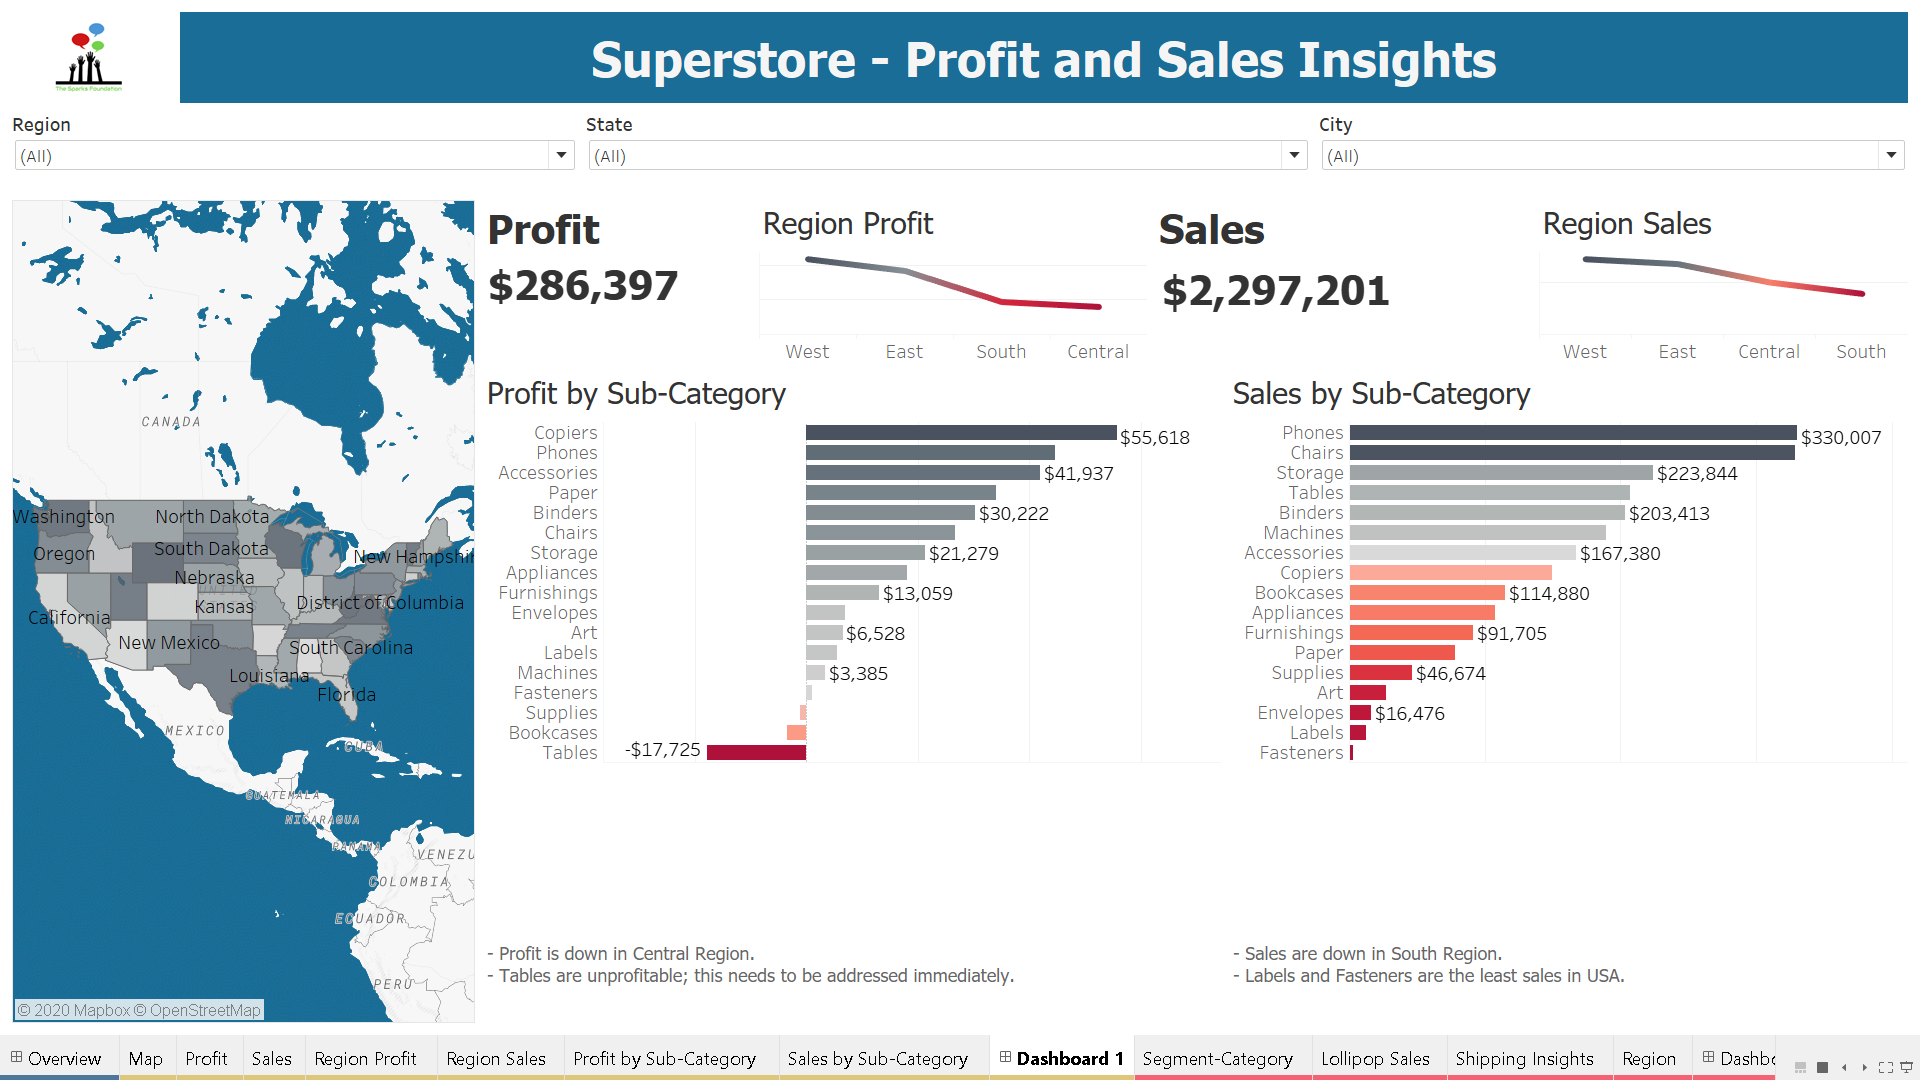

The page's visual inventory and layout, read from the dashboard file:
{"tool":"tableau","page":{"name":"Dashboard 1","canvas":[1000,1000],"units":"permille","ordinal":0},"visuals":[{"type":"worksheet","box":[0,0,1000,1000]},{"type":"worksheet","param":"horz","box":[5,9.8,990,980.4]},{"type":"worksheet","param":"horz","box":[5,9.8,990,980.4]},{"type":"worksheet","box":[5,9.8,990,980.4]},{"type":"worksheet","param":"Image/images.png","box":[5,9.8,87.2,95.2]},{"type":"worksheet","box":[92.2,9.8,902.8,95.2]},{"type":"worksheet","param":"horz","box":[5,105,990,885.2]},{"type":"worksheet","param":"vert","box":[5,105,990,885.2]},{"type":"worksheet","param":"horz","box":[5,105,990,885.2]},{"type":"worksheet","param":"horz","box":[5,105,990,885.2]},{"type":"worksheet","param":"horz","box":[5,105,990,885.2]},{"type":"worksheet","box":[5,105,990,885.2]},{"type":"worksheet","title":"Map","mark":"Multipolygon","param":"[federated.1cpo31o1rp0b5b1baj65f1iec43t].[none:Region:nk]","box":[5,105,298.5,85.3]},{"type":"worksheet","title":"Map","mark":"Multipolygon","param":"[federated.1cpo31o1rp0b5b1baj65f1iec43t].[none:State:nk]","box":[303.5,105,381,85.3]},{"type":"worksheet","title":"Map","mark":"Multipolygon","param":"[federated.1cpo31o1rp0b5b1baj65f1iec43t].[none:City:nk]","box":[684.5,105,310.6,85.3]},{"type":"worksheet","param":"horz","box":[5,190.3,990,799.9]},{"type":"worksheet","box":[5,190.3,990,799.9]},{"type":"worksheet","title":"Map","mark":"Multipolygon","box":[5,190.3,245,799.9]},{"type":"worksheet","title":"Profit","mark":"Automatic","box":[250,190.3,143.4,164.2]},{"type":"worksheet","title":"Region Profit","mark":"Line","rows":["Profit"],"cols":["Region"],"box":[393.4,190.3,205.8,164.2]},{"type":"worksheet","title":"Sales","mark":"Automatic","box":[599.1,190.3,200.1,164.2]},{"type":"worksheet","title":"Region Sales","mark":"Line","rows":["Sales"],"cols":["Region"],"box":[799.2,190.3,195.8,164.2]},{"type":"worksheet","title":"Profit by Sub-Category","mark":"Automatic","rows":["Sub-Category"],"cols":["Profit"],"box":[250,354.5,387.8,514.7]},{"type":"worksheet","title":"Sales by Sub-Category","mark":"Automatic","rows":["Sub-Category"],"cols":["Sales"],"box":[637.8,354.5,357.3,514.7]},{"type":"worksheet","box":[250,869.2,387.8,121]},{"type":"worksheet","box":[637.8,869.2,357.3,121]}]}

Visuals, with their boxes on the dashboard's canvas, which has no fixed pixel size, in thousandths of its width and height (x1, y1, x2, y2). These are canvas units, not pixel positions in the 1920x1080 screenshot, which may show the page scaled, cropped or inside an application window:
worksheet: 0/0/1000/1000
worksheet: 5/10/995/990
worksheet: 5/10/995/990
worksheet: 5/10/995/990
worksheet: 5/10/92/105
worksheet: 92/10/995/105
worksheet: 5/105/995/990
worksheet: 5/105/995/990
worksheet: 5/105/995/990
worksheet: 5/105/995/990
worksheet: 5/105/995/990
worksheet: 5/105/995/990
"Map" worksheet (Multipolygon marks): 5/105/304/190
"Map" worksheet (Multipolygon marks): 304/105/684/190
"Map" worksheet (Multipolygon marks): 684/105/995/190
worksheet: 5/190/995/990
worksheet: 5/190/995/990
"Map" worksheet (Multipolygon marks): 5/190/250/990
"Profit" worksheet: 250/190/393/354
"Region Profit" worksheet (Line marks): 393/190/599/354
"Sales" worksheet: 599/190/799/354
"Region Sales" worksheet (Line marks): 799/190/995/354
"Profit by Sub-Category" worksheet: 250/354/638/869
"Sales by Sub-Category" worksheet: 638/354/995/869
worksheet: 250/869/638/990
worksheet: 638/869/995/990
